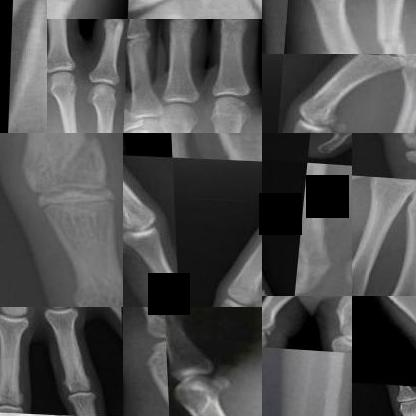fracture: (16, 133, 113, 199), (12, 0, 47, 110), (307, 158, 351, 221), (374, 15, 415, 54), (318, 27, 370, 53), (47, 0, 98, 20)
